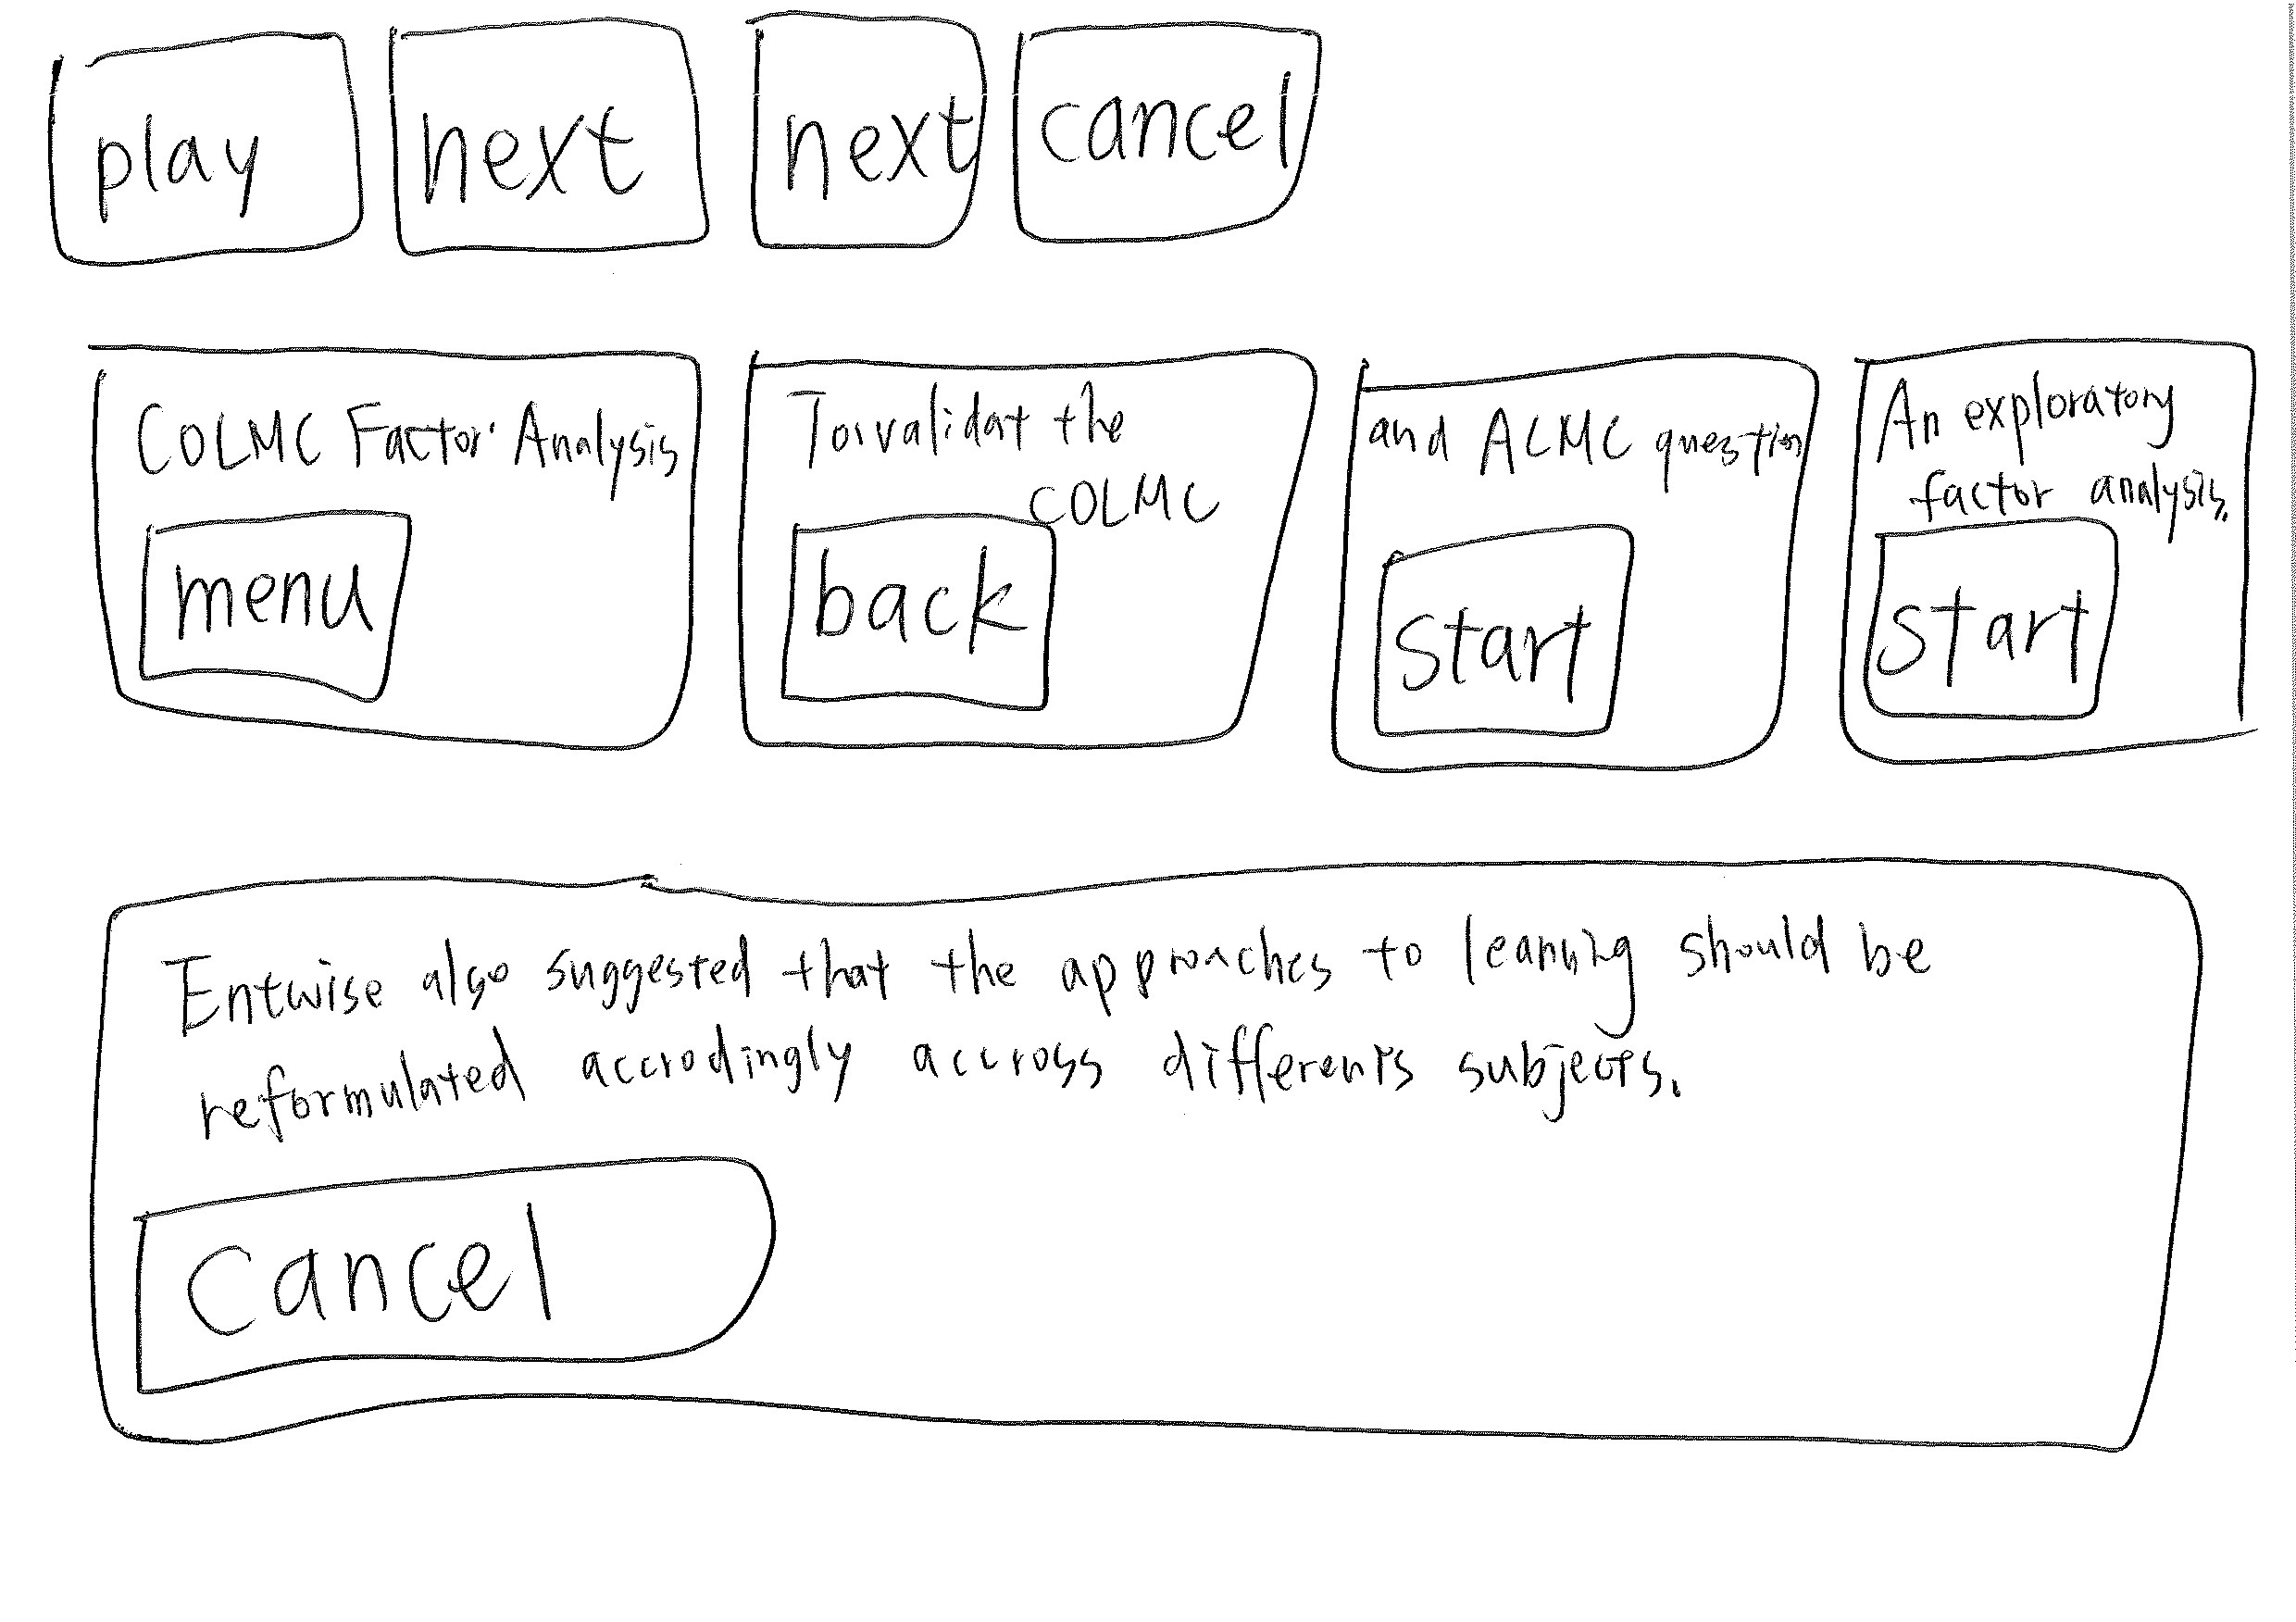back: (750, 493, 1067, 718)
cancel: (990, 5, 1362, 255)
menu: (112, 490, 430, 713)
next: (379, 12, 725, 283)
play: (104, 1153, 800, 1385), (23, 11, 372, 288)
quadruple: (61, 312, 720, 774), (720, 302, 1336, 779), (1820, 309, 2292, 797), (1318, 332, 1822, 786)
row: (2, 834, 2296, 1541), (2, 290, 2296, 815), (2, 2, 2296, 297)
single: (65, 836, 2261, 1492)
small-title: (102, 365, 685, 532), (774, 369, 1218, 523), (1366, 402, 1803, 486), (1875, 370, 2184, 435)
start: (1357, 514, 1669, 741), (1861, 507, 2131, 732)
text: (147, 916, 1926, 1122), (1899, 462, 2228, 514)
